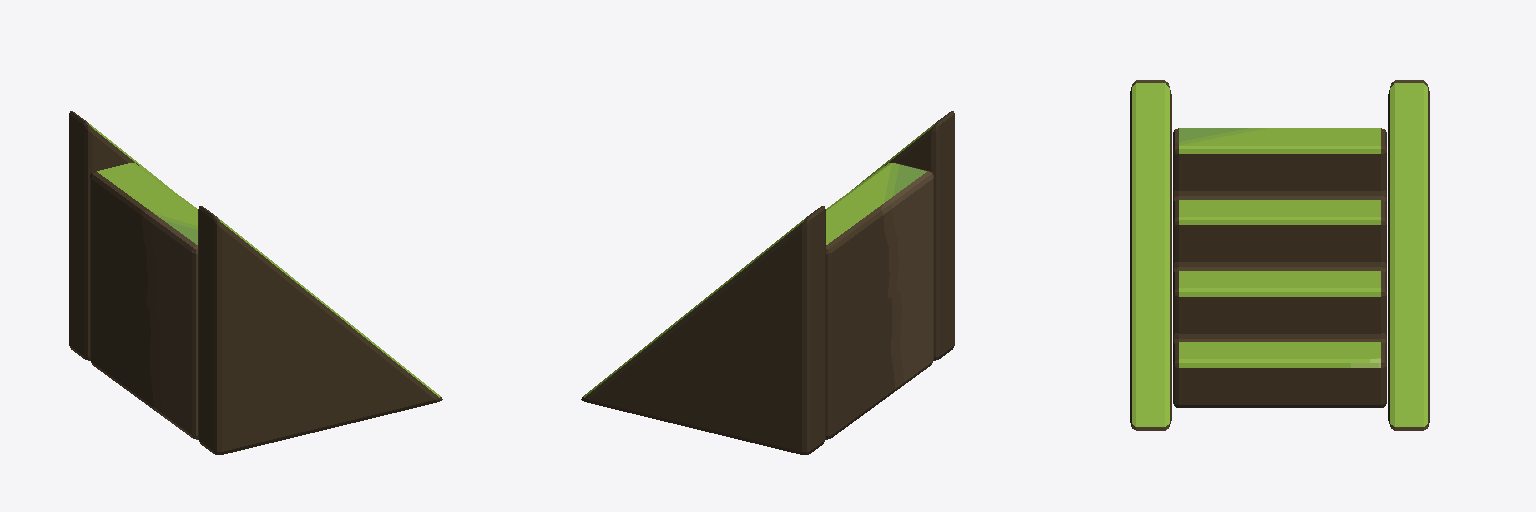
3 renders of one model, left to right at view 1: azimuth 30°, elevation 25°; view 2: azimuth 150°, elevation 25°; view 3: azimuth 270°, elevation 25°, orthographic.
Visible parts, largest first — view 1: Stairs004; view 2: Stairs004; view 3: Stairs004.
Boxes of the visible parts, <box> form: Stairs004: <box>69,111,442,454</box>; Stairs004: <box>581,111,954,454</box>; Stairs004: <box>1130,80,1429,430</box>.
Bounding box in the file's own units: 1.24 × 1.24 × 1.4.
1 materials, 1 textured.